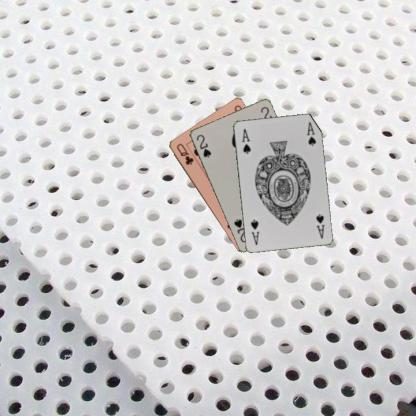2s: (194, 132, 212, 159)
As: (239, 126, 252, 155), (313, 212, 325, 239)
Qc: (174, 141, 195, 166)
